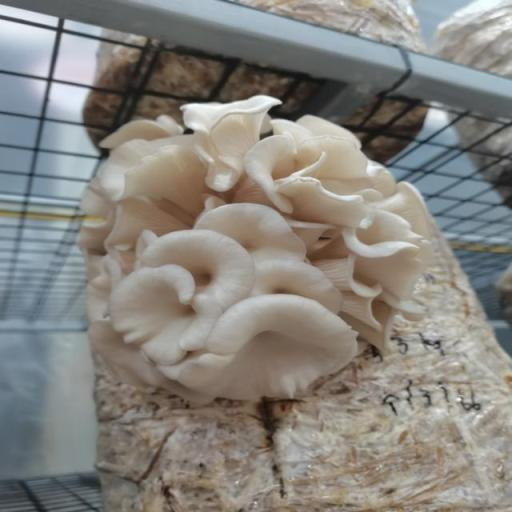White Oyster Mushroom: (57, 91, 436, 419)
